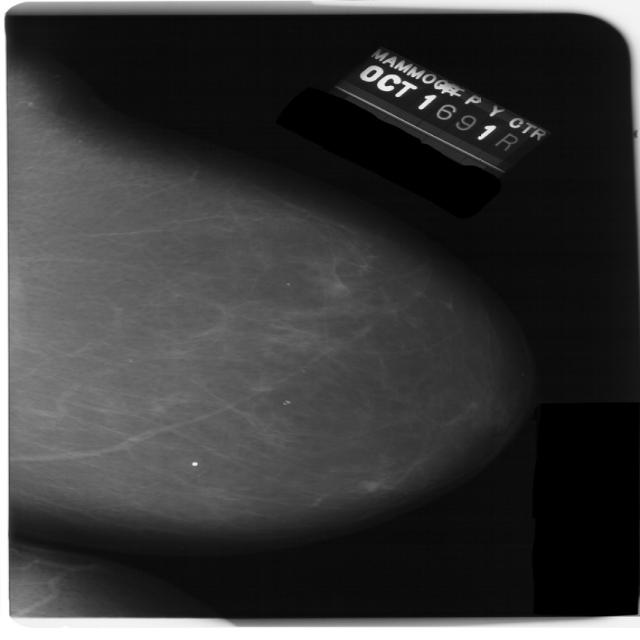tumour: (358, 479, 378, 492)
